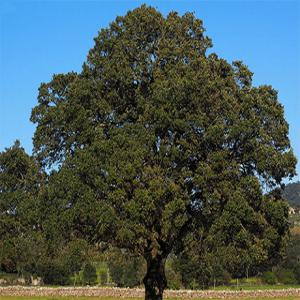Tree: (24, 4, 295, 288)
